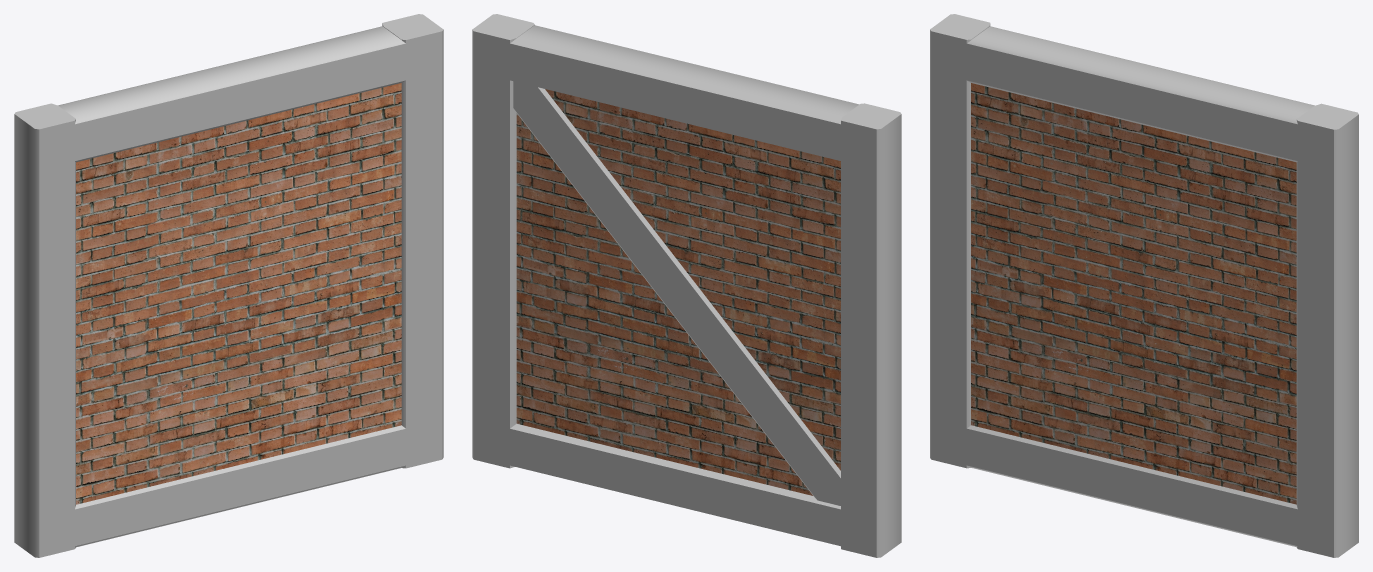
File: House Half Brick Wall.fbx
The picture shows the model from 3 angles, left to right: view 1: azimuth 30°, elevation 25°; view 2: azimuth 150°, elevation 25°; view 3: azimuth 330°, elevation 25°; orthographic projection.
Visible parts, largest first — view 1: House Half Timber Wall; view 2: House Half Timber Wall; view 3: House Half Timber Wall.
Boxes of the visible parts, x1,y1,x2,y2 form: House Half Timber Wall: (14,14,443,557); House Half Timber Wall: (472,14,901,557); House Half Timber Wall: (930,14,1358,557).
Size of the model in its own units: 250 by 250 by 25.
